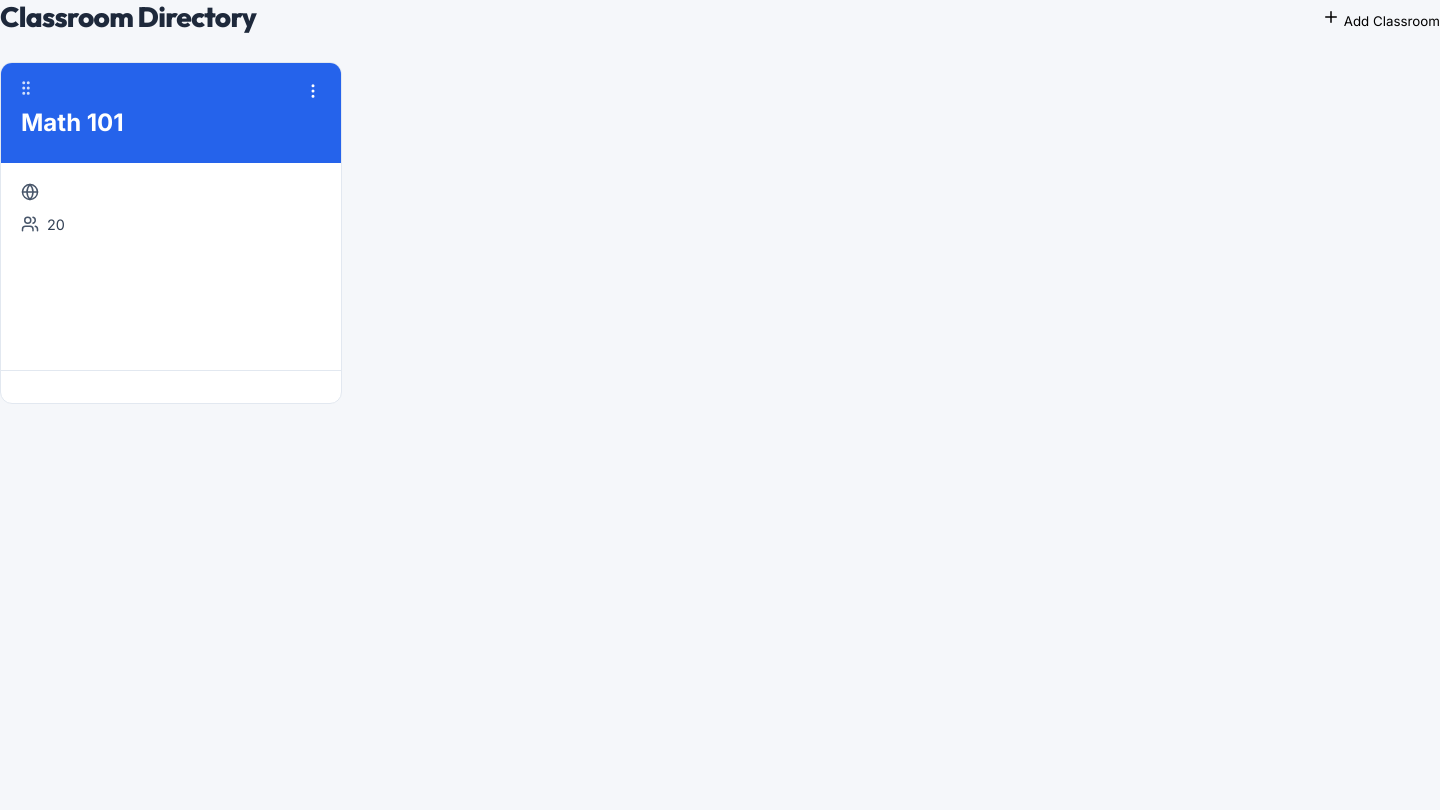
Classes Admin Page › Create Classroom dialog keyboard behaviour › closes on Escape and returns focus to the Add Classroom button
Expected: the link "Math 101" is shown, [21,108,124,137]
Click the button with aria-label "Add new classroom".
click(1381, 19)  # box [1322,8,1439,29]
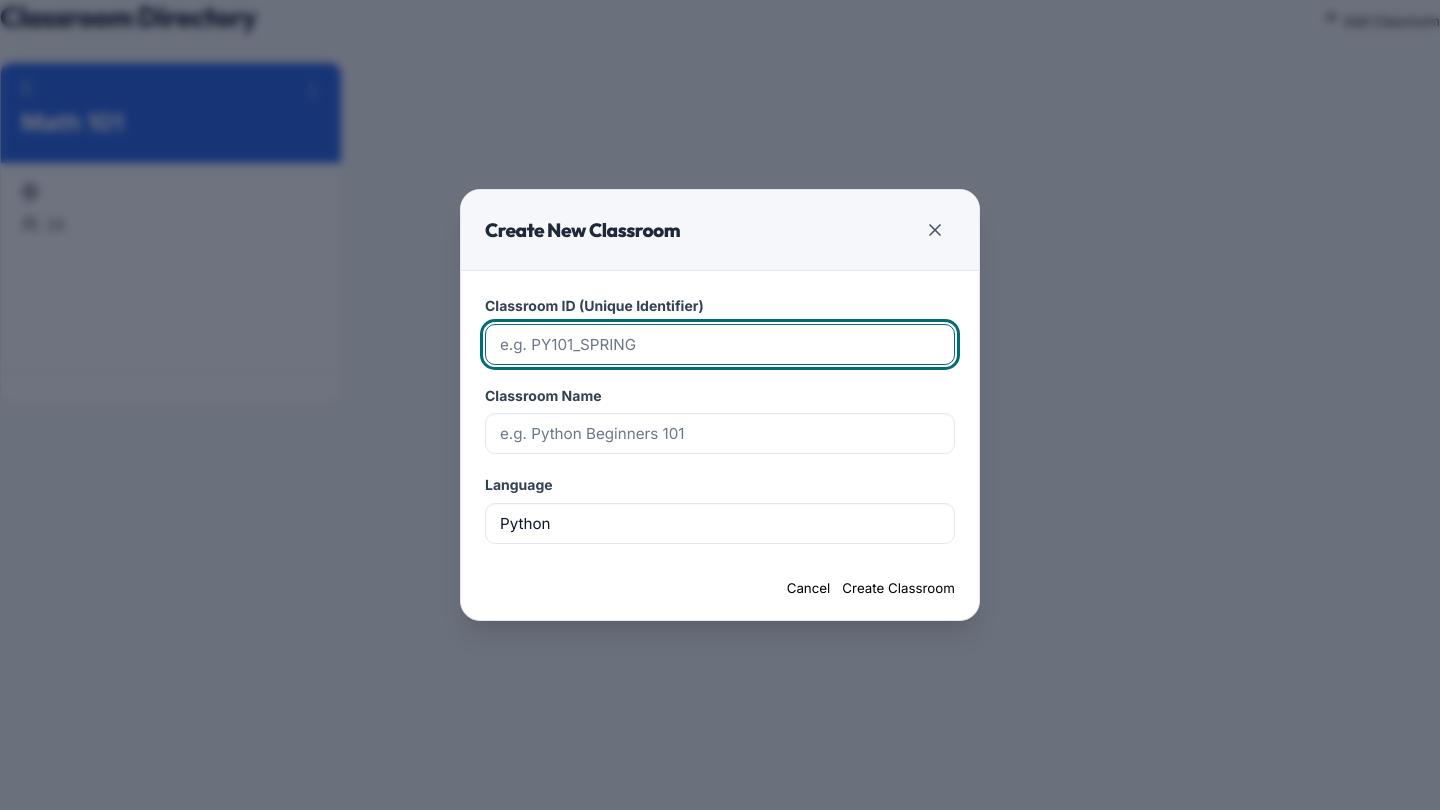
Expected: the dialog "Create New Classroom" is shown
Press Escape
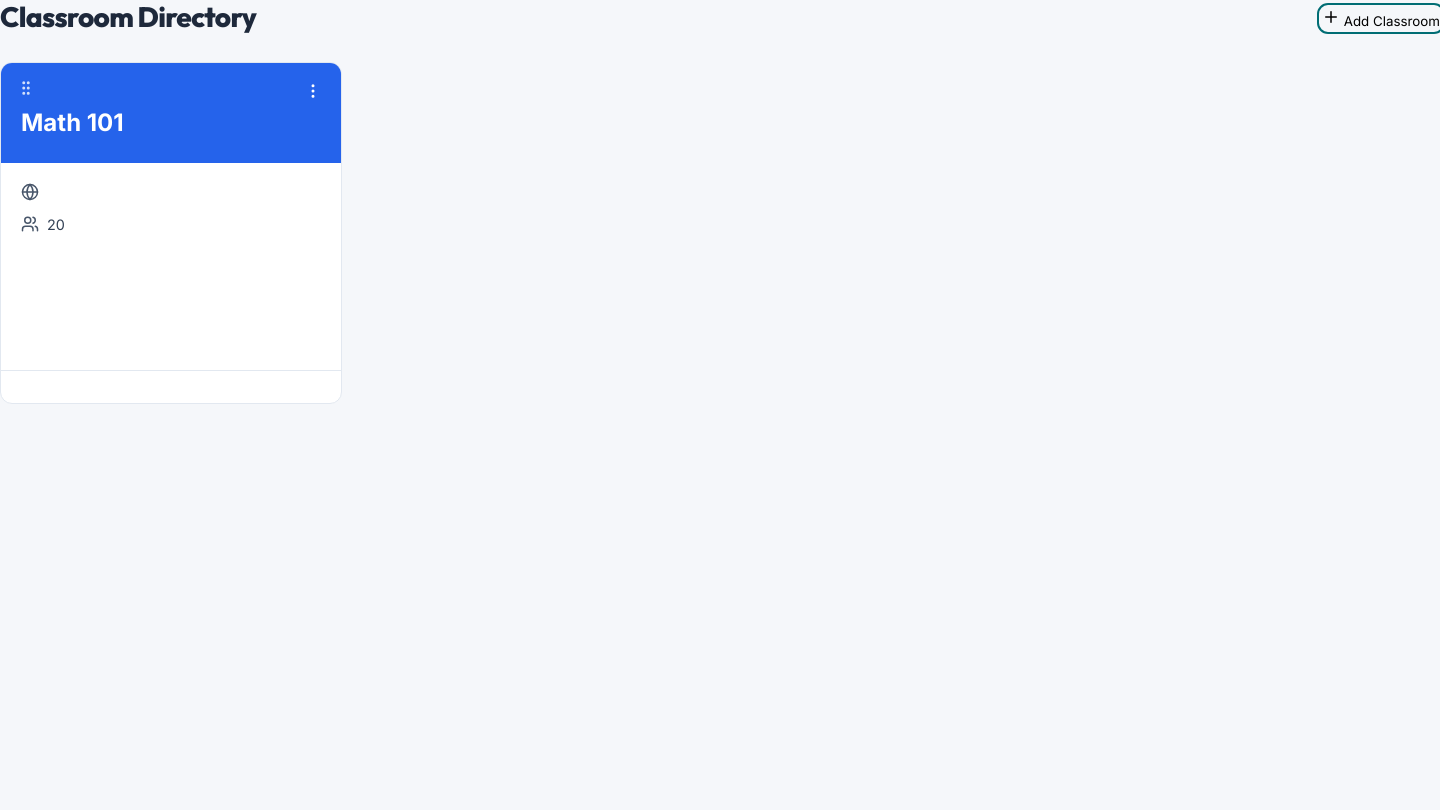
Expected: the dialog is gone
